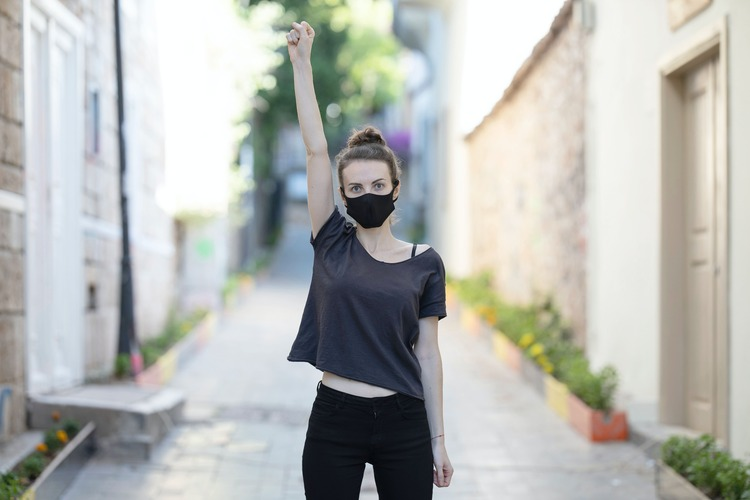with_mask: (341, 174, 395, 227)
